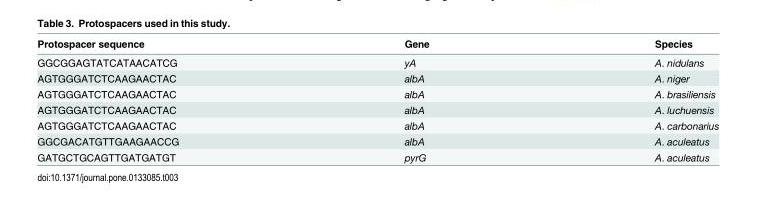table: (36, 37, 718, 162)
table column: (36, 37, 290, 162), (290, 37, 541, 162), (541, 37, 718, 162)
table column header: (36, 37, 718, 52)
table row: (36, 52, 718, 70), (36, 85, 718, 101), (36, 101, 718, 117), (36, 117, 718, 133), (36, 37, 718, 52), (36, 70, 718, 85), (36, 133, 718, 148), (36, 148, 718, 162)
